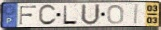C: (38, 4, 58, 27)
F: (18, 5, 38, 26)
I: (133, 4, 140, 25)
L: (62, 5, 79, 25)
O: (107, 4, 126, 25)
U: (80, 3, 101, 26)
